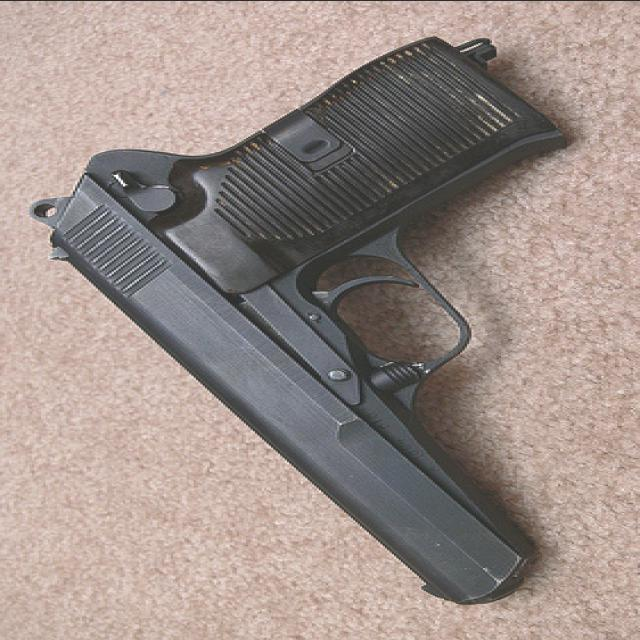handgun: (34, 36, 556, 610)
